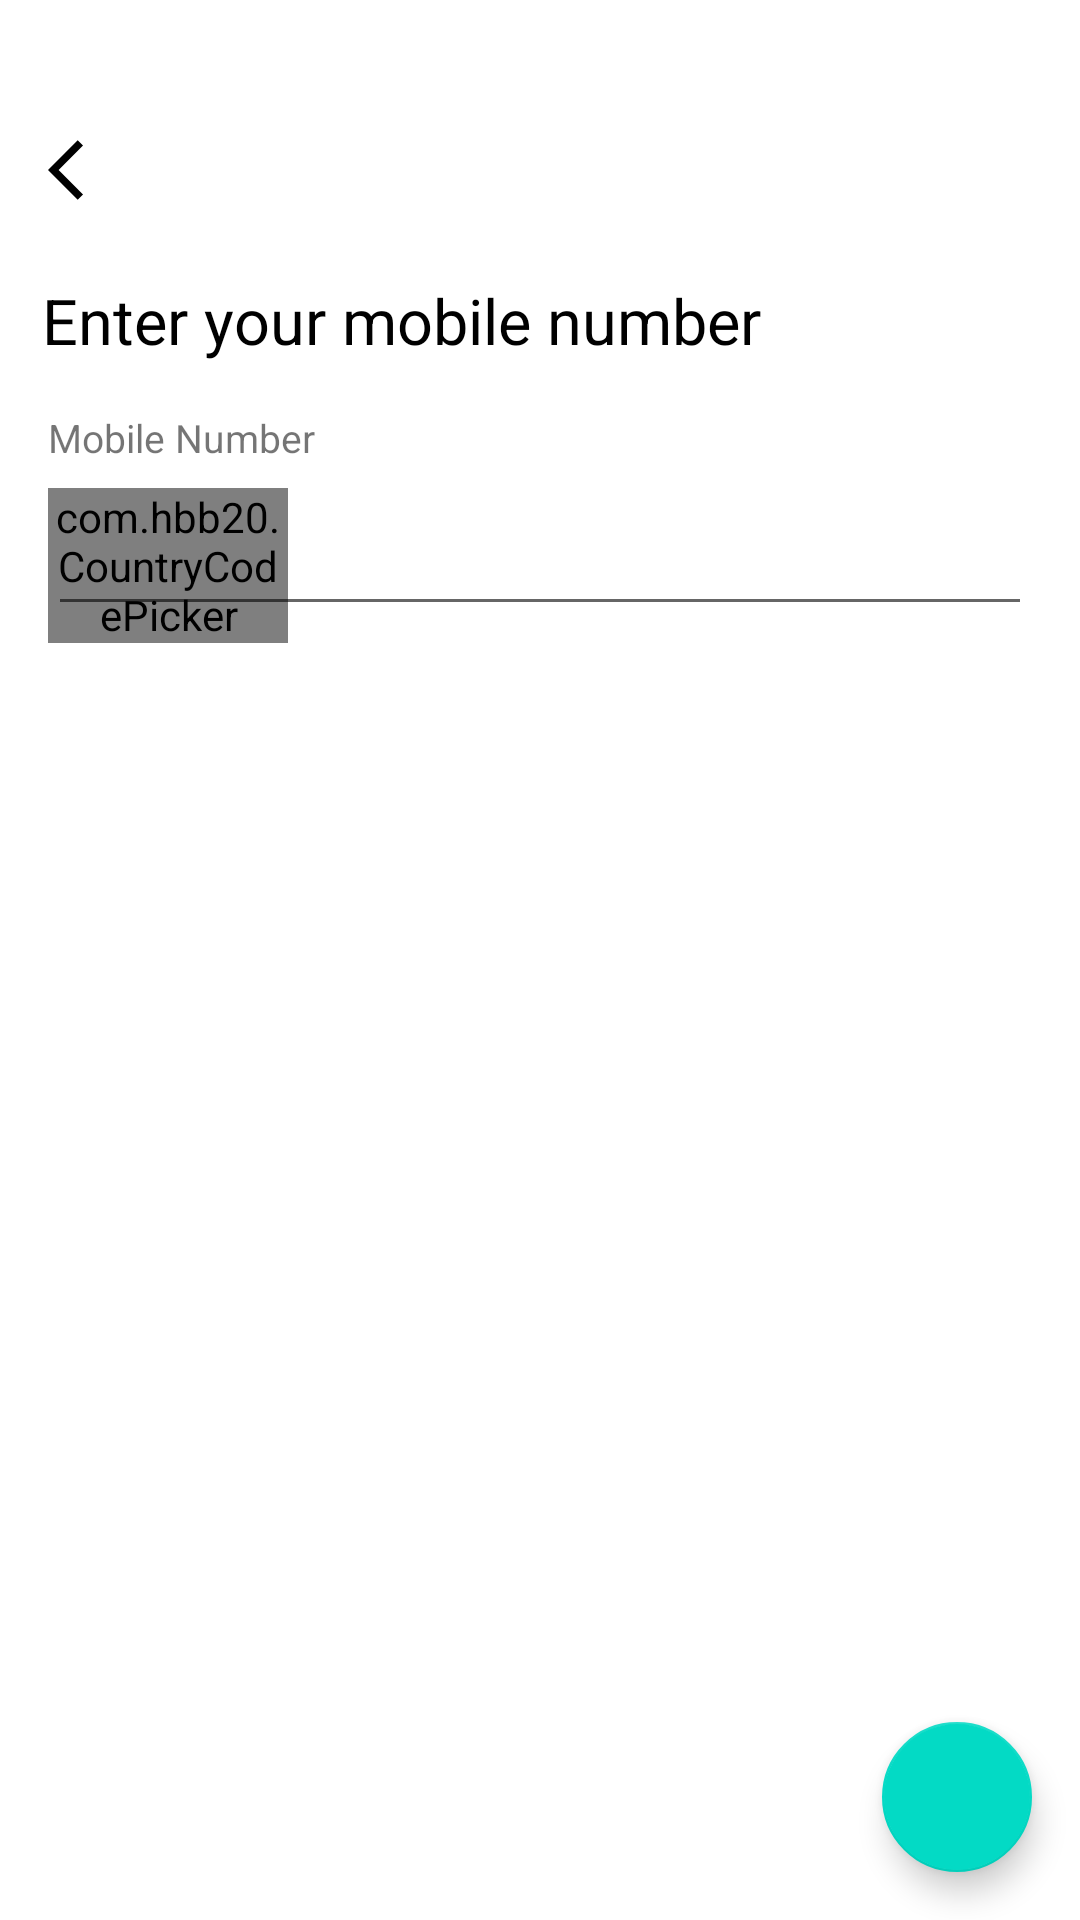

Named icons in this screenshot (1080w x 1920h) and their bounding boxes, (x1, y1, x2, y2):
arrow back: (48, 140, 83, 200)
